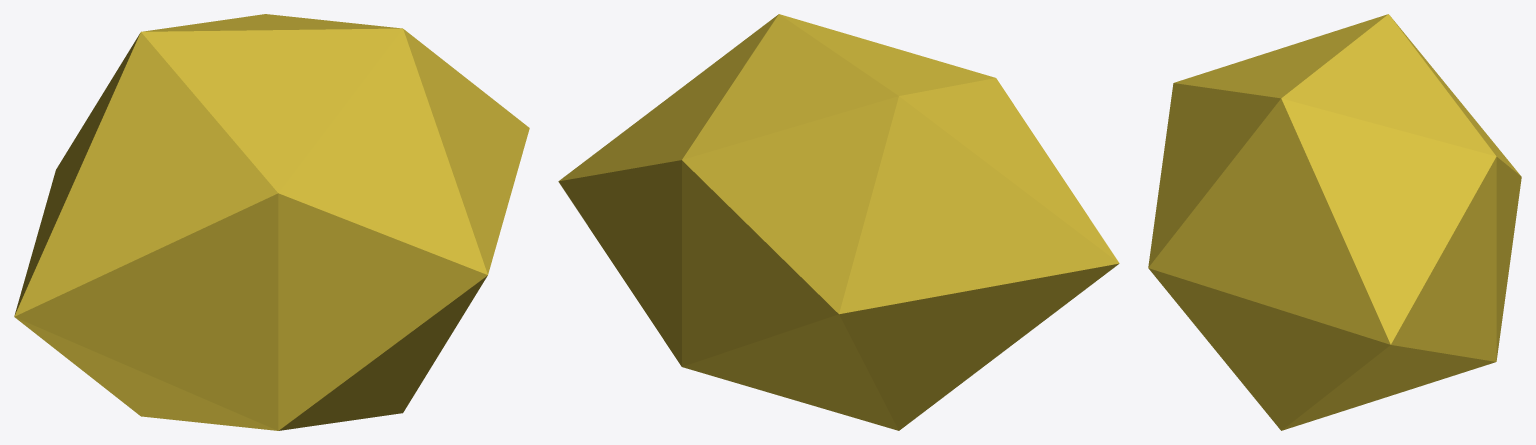
Rendered from SM_lemon.fbx.
3 renders of one model, left to right at view 1: azimuth 30°, elevation 25°; view 2: azimuth 150°, elevation 25°; view 3: azimuth 270°, elevation 25°, orthographic. The views are drawn at different scales.
Visible parts, largest first — view 1: GeoSphere009; view 2: GeoSphere009; view 3: GeoSphere009.
Boxes of the visible parts, x1,y1,x2,y2 form: GeoSphere009: (14,14,529,430); GeoSphere009: (558,14,1119,430); GeoSphere009: (1148,14,1521,430).
Size of the model in its own units: 7.17 by 4.55 by 4.63.
